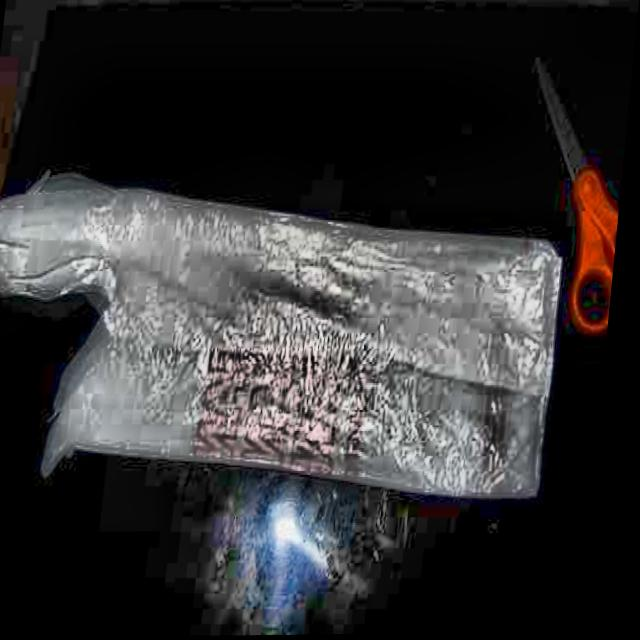Plastic: (0, 149, 610, 549)
